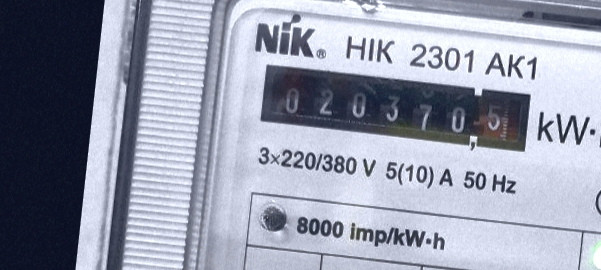0: (446, 103, 467, 135), (280, 83, 300, 114), (348, 89, 366, 118)
2: (314, 85, 335, 118)
3: (381, 91, 400, 123)
5: (482, 100, 503, 133)
7: (413, 101, 431, 132)
screen: (250, 56, 538, 161)
